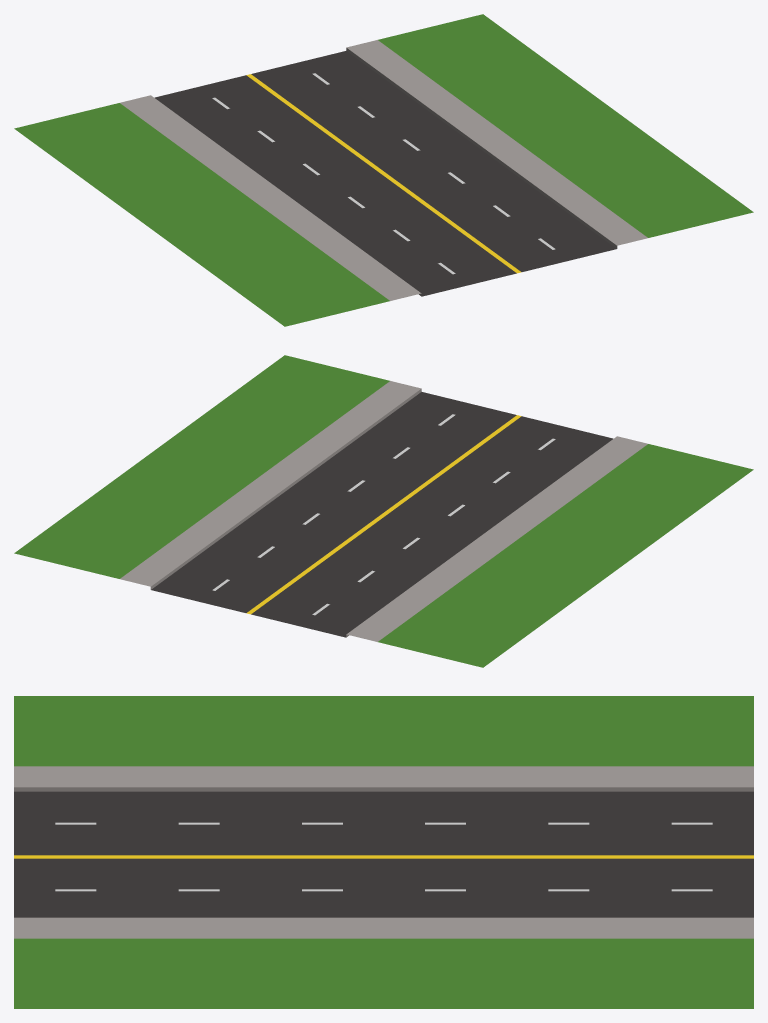
Rendered from tiles-nb_tile-mainroad-straight-nb.fbx.
3 renders of one model, top to bottom at view 1: azimuth 30°, elevation 25°; view 2: azimuth 150°, elevation 25°; view 3: azimuth 270°, elevation 25°, orthographic. The views are drawn at different scales.
Parts seen in each view (by area): view 1: tiles_nb_tile_mainroad_straight_nb; view 2: tiles_nb_tile_mainroad_straight_nb; view 3: tiles_nb_tile_mainroad_straight_nb.
Part boxes in pixels (x1,y1,x2,y2): tiles_nb_tile_mainroad_straight_nb: (14,14,753,326); tiles_nb_tile_mainroad_straight_nb: (14,355,753,667); tiles_nb_tile_mainroad_straight_nb: (14,696,753,1008).
Size of the model in its own units: 200 by 1.33 by 200.
